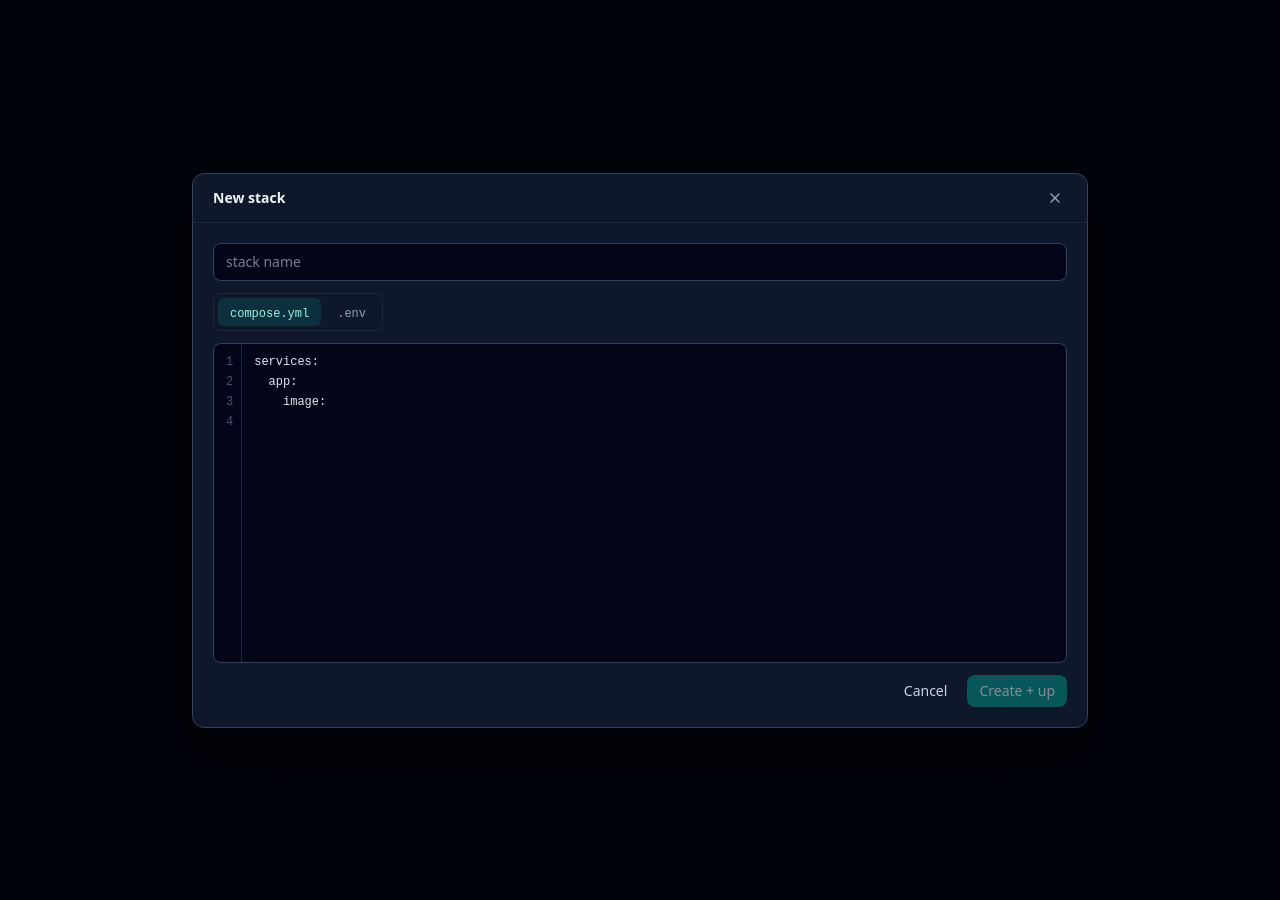
a new stack whose up fails stays open on what Compose said
Type "scratch" into the field with placeholder "stack name" at (640, 262), box x1=213 y1=242 x2=1067 y2=280
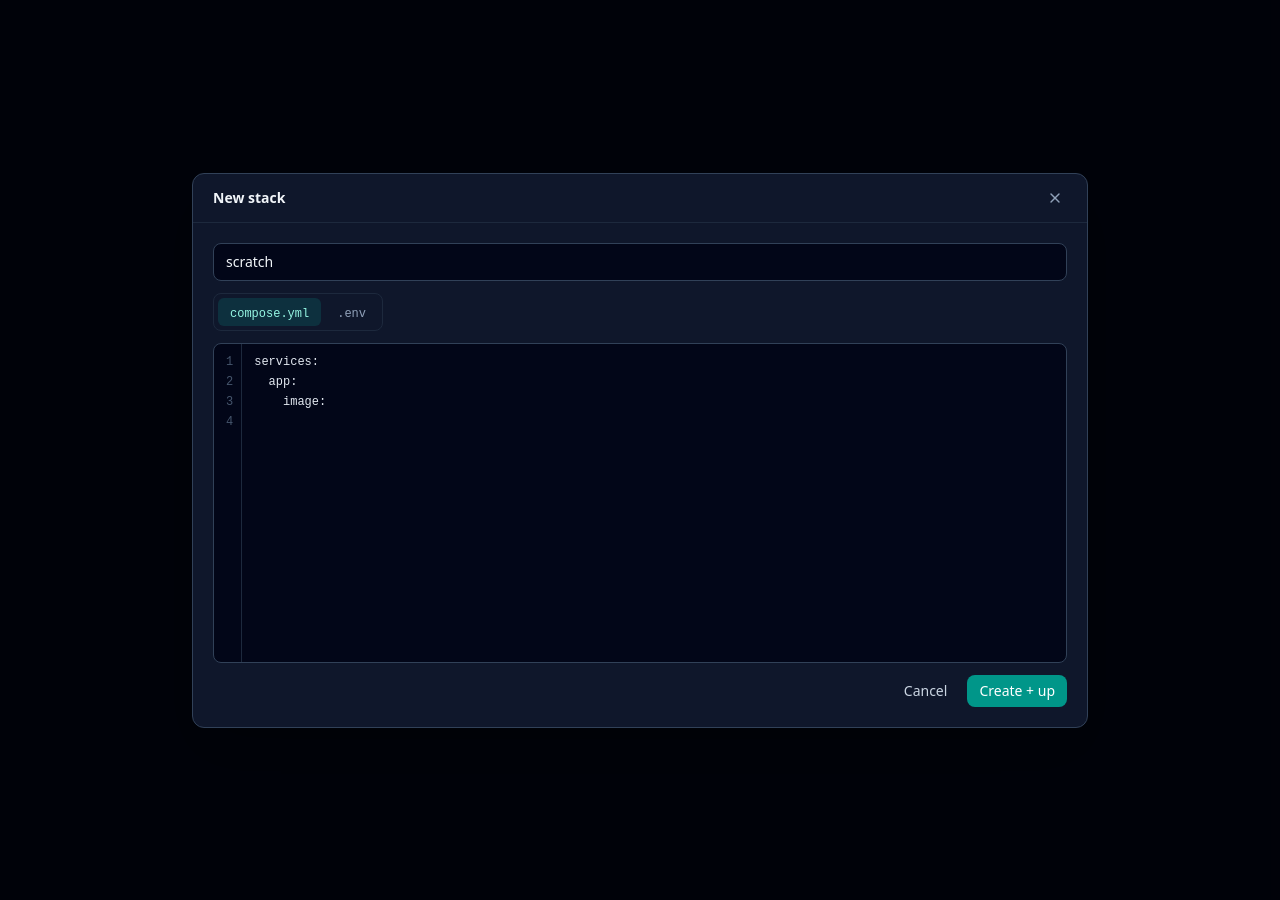
Click the button "Create + up" at (1017, 690), box x1=967 y1=674 x2=1067 y2=706
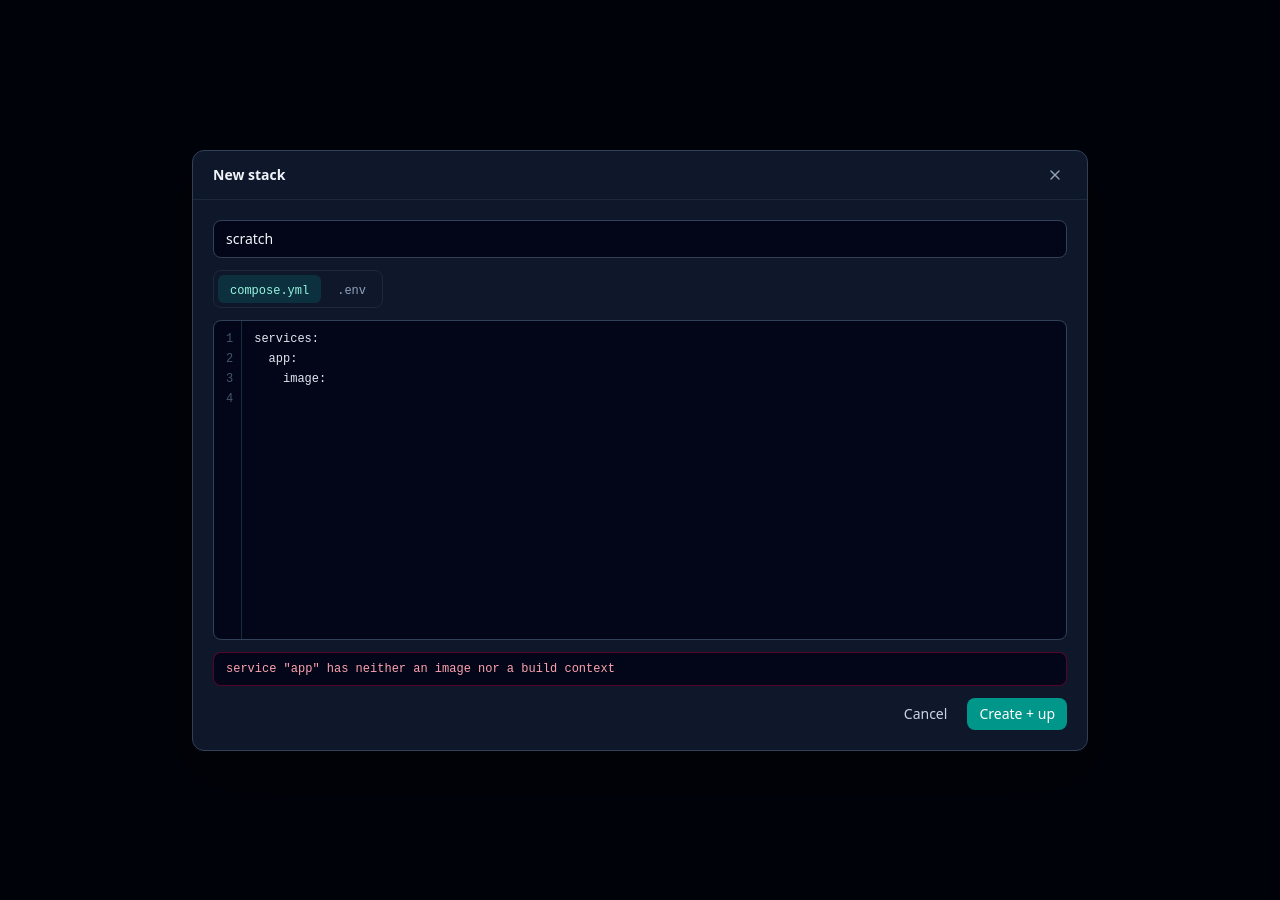
Expected: the text "service \"app\" has neither an image nor a build context" is shown, x1=213 y1=652 x2=1067 y2=686
